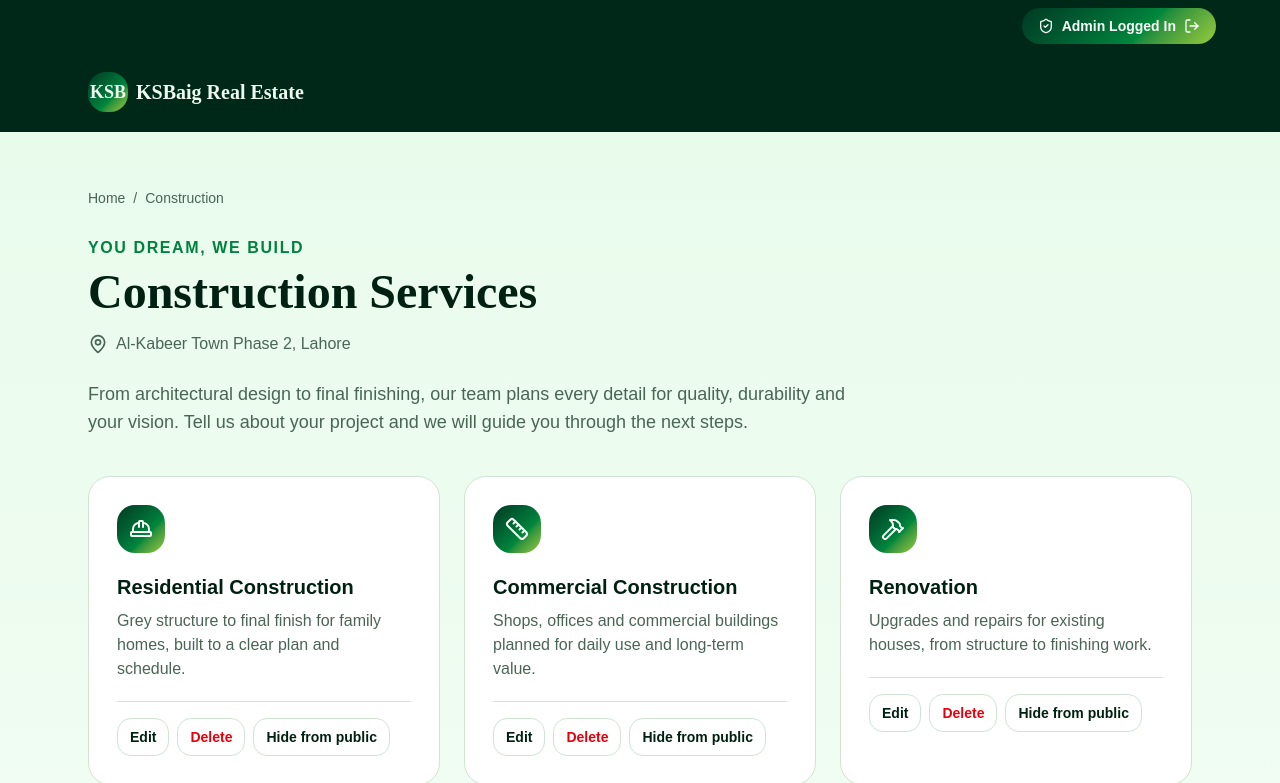
Scenario: Rental and construction card management › removes admin controls and hidden cards on logout from Construction Services
The image size is (1280, 783).
Expected: the heading "Construction Services" is shown, [88,265,537,318]
Click the button "Hide from public" below "Renovation": [1074, 713] box [1006,694,1142,732]
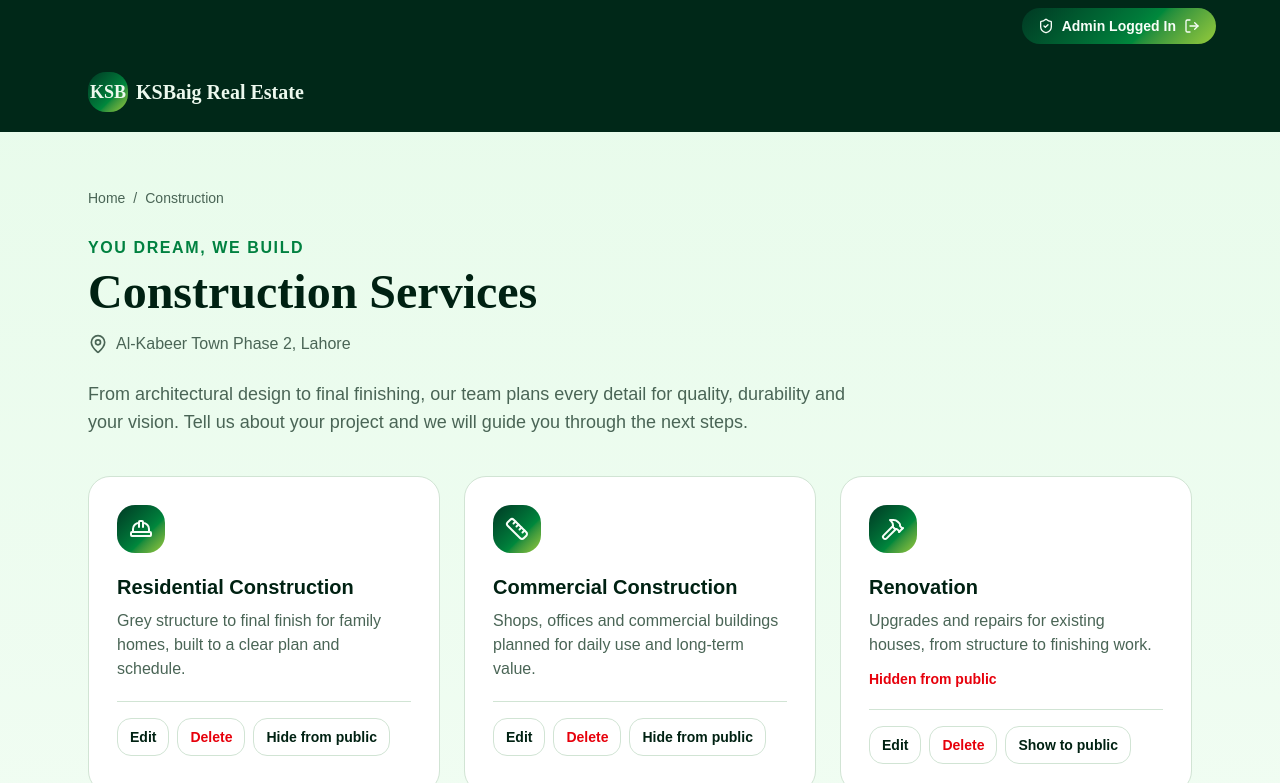
Click the button "Admin Logged In": [1119, 26] box [1022,8,1216,44]
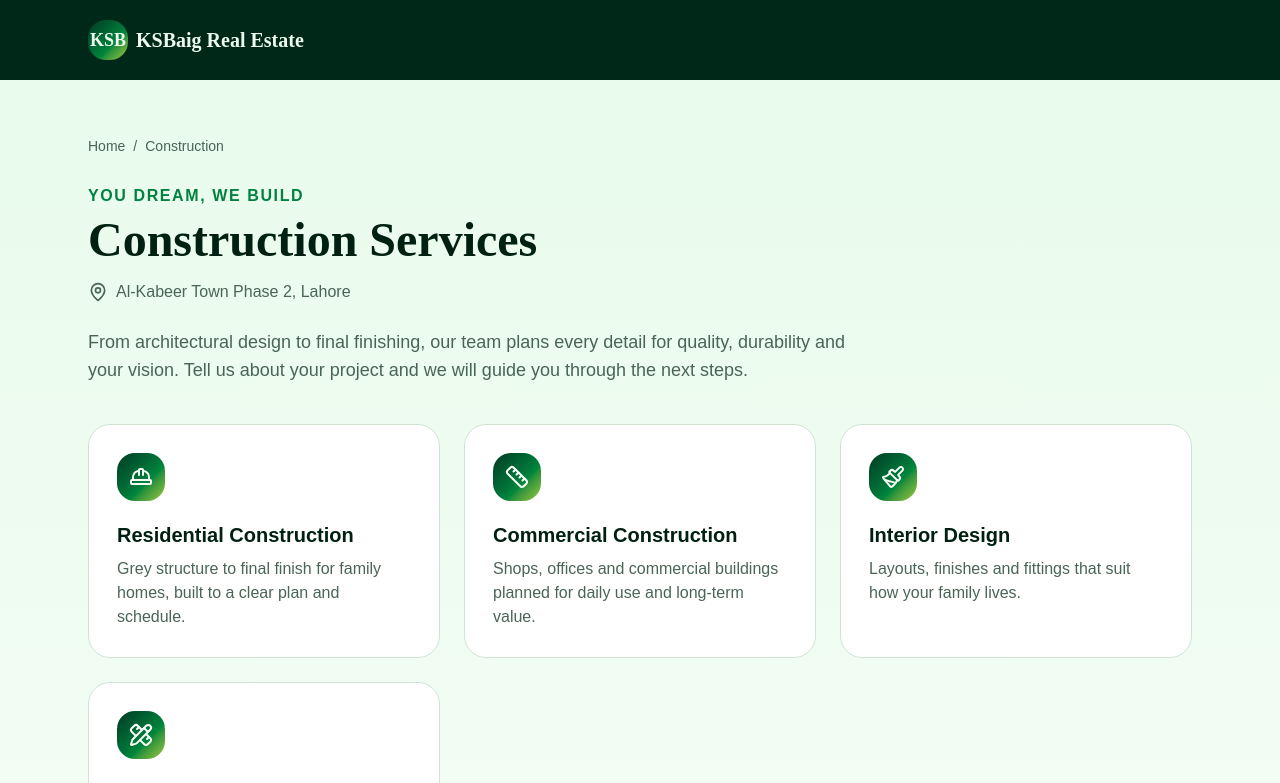
Now the heading "Renovation" is gone
Now the button "Edit " is gone
